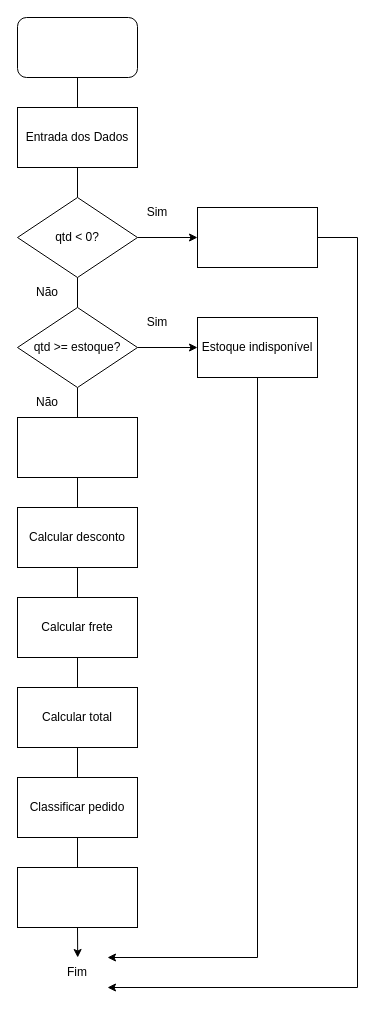
The diagram is 383 pixels wide and 1013 high, and some of its shapes have lost their labels. Each missing label, with the centre of its shape:
"Apresentar resultado" belongs at [77,897].
"Calcular subtotal" belongs at [77,447].
"Início" belongs at [77,47].
"Quantidade inválida" belongs at [257,237].
